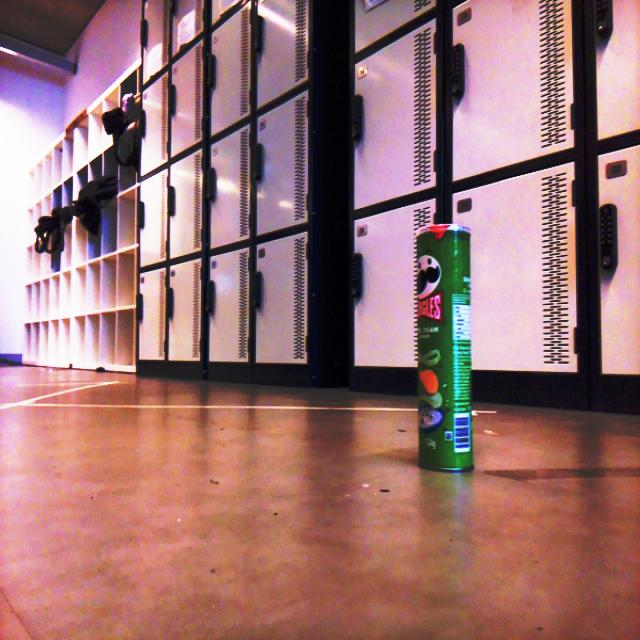greenpringles: (399, 204, 489, 488)
